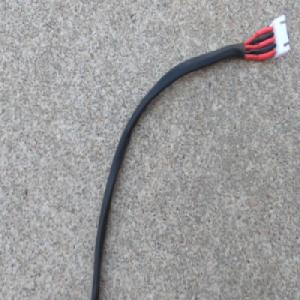Wire: (90, 13, 290, 300)
